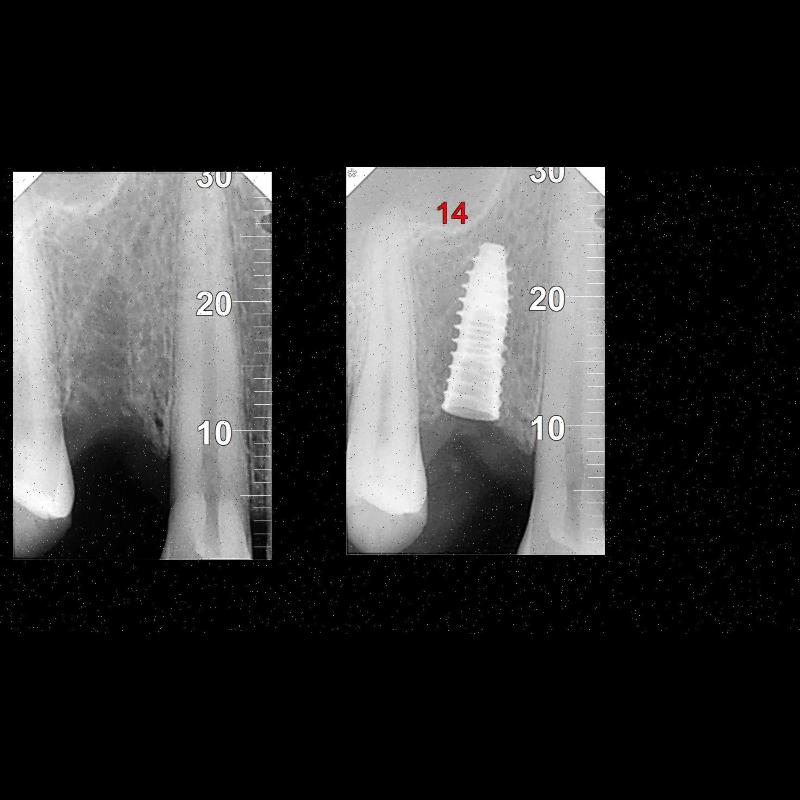osstem: (445, 238, 521, 426)
